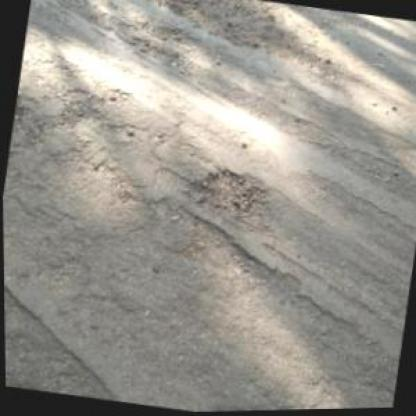pothole: (184, 162, 270, 222)
